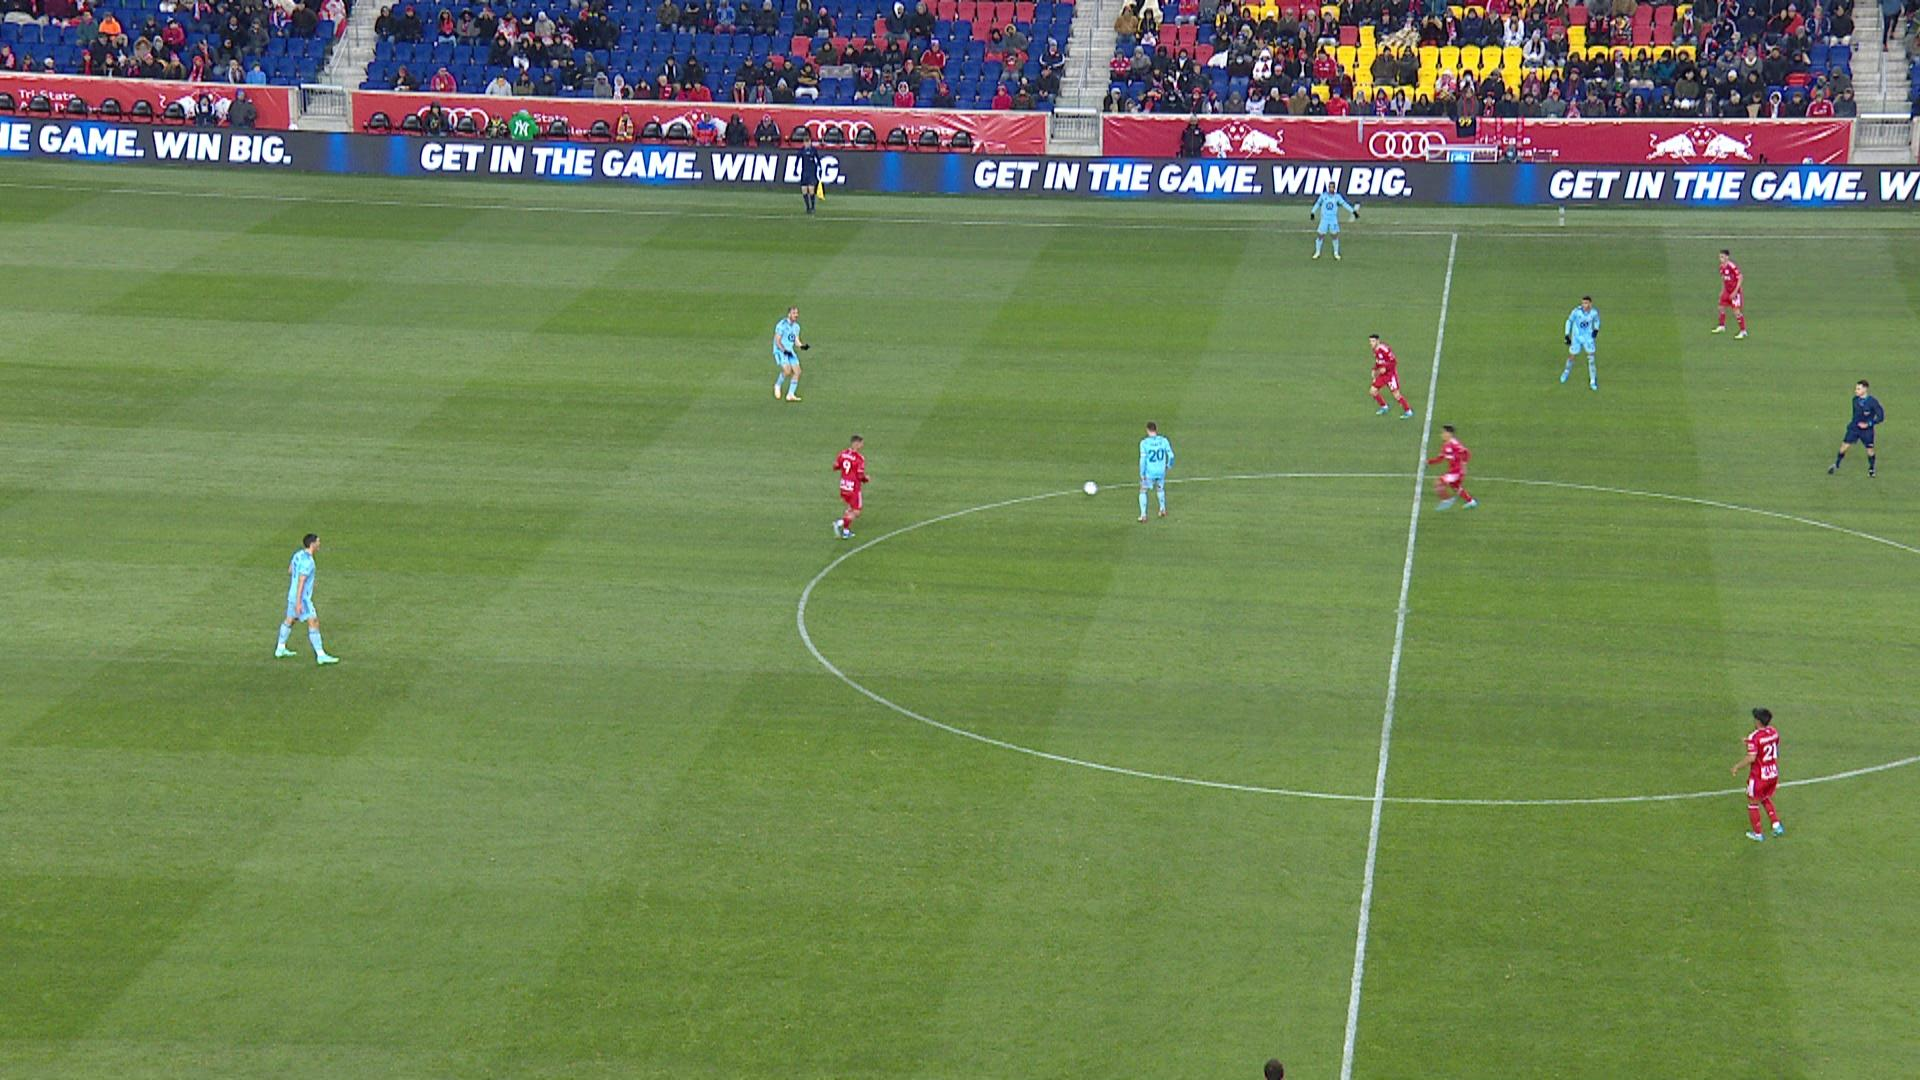football: (1083, 480, 1098, 496)
